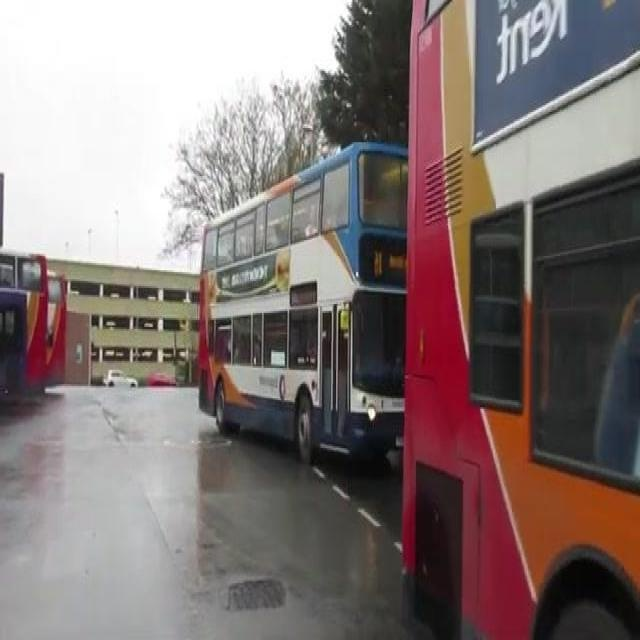bus: (395, 0, 640, 633), (129, 133, 406, 466)
